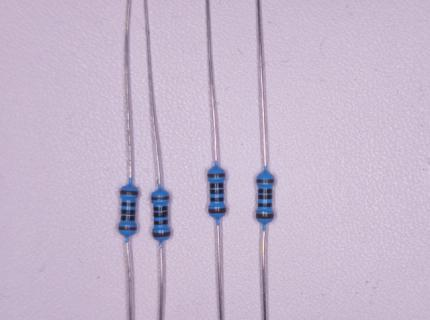Black band: (153, 206, 168, 211), (121, 209, 135, 214), (121, 216, 135, 221), (154, 212, 168, 217), (154, 220, 168, 225), (210, 183, 224, 188), (210, 189, 224, 194), (258, 195, 272, 200), (121, 202, 136, 206), (258, 189, 272, 193), (258, 203, 272, 207), (211, 198, 224, 202)
Brown band: (152, 231, 171, 237), (256, 213, 274, 219), (119, 190, 139, 195), (207, 173, 226, 178), (208, 208, 227, 213), (151, 196, 170, 200), (256, 179, 275, 183), (118, 226, 137, 230)
